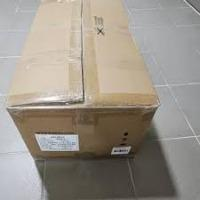undamaged: (1, 0, 162, 164)
